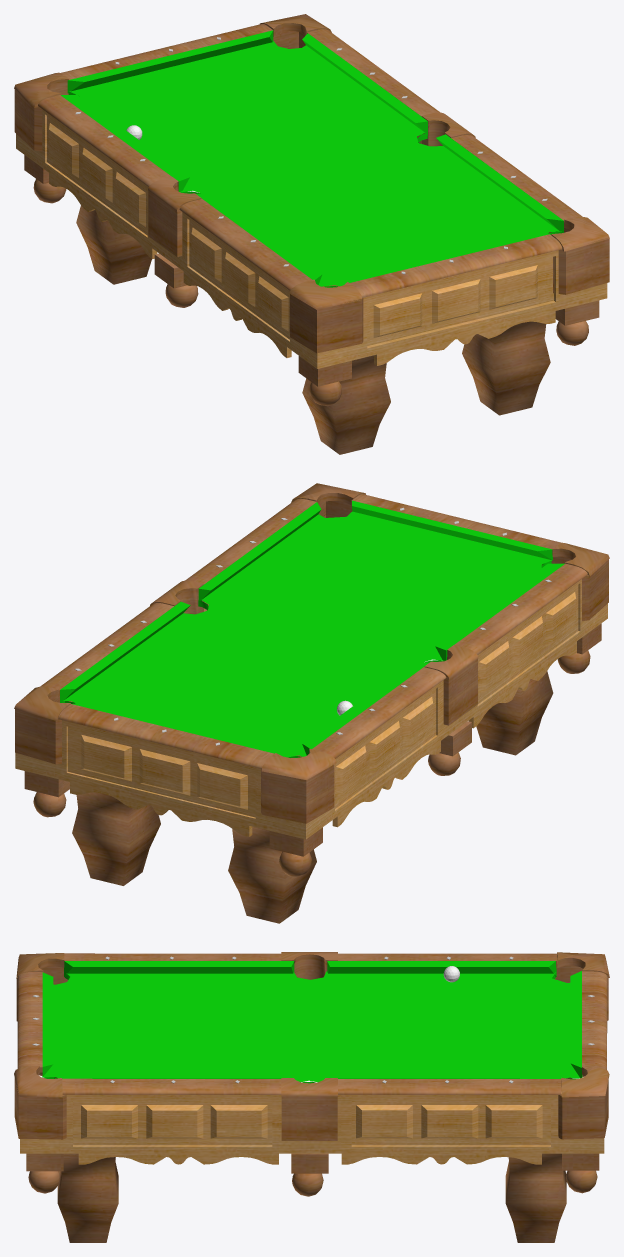
The model's file is MGA4062A.glb.
The picture shows the model from 3 angles, top to bottom: view 1: azimuth 30°, elevation 25°; view 2: azimuth 150°, elevation 25°; view 3: azimuth 270°, elevation 25°; orthographic projection. The views are drawn at different scales.
Parts seen in each view (by area): view 1: GreenFelt-ROOT, Cabinet-ROOT, Underparts-ROOT, Rails-ROOT, Pockettops-ROOT, Pocketdrop-ROOT; view 2: GreenFelt-ROOT, Cabinet-ROOT, Underparts-ROOT, Rails-ROOT, Pockettops-ROOT, Pocketdrop-ROOT; view 3: GreenFelt-ROOT, Cabinet-ROOT, Rails-ROOT, Underparts-ROOT, Pockettops-ROOT, Pocketdrop-ROOT.
Boxes of the visible parts, box(x1,y1,x2,y2) form: GreenFelt-ROOT: box(61, 30, 564, 287); Cabinet-ROOT: box(16, 109, 607, 368); Underparts-ROOT: box(24, 155, 599, 454); Rails-ROOT: box(38, 24, 581, 297); Pockettops-ROOT: box(14, 14, 609, 309); Pocketdrop-ROOT: box(14, 31, 609, 353); GreenFelt-ROOT: box(60, 500, 564, 757); Cabinet-ROOT: box(15, 579, 607, 839); Underparts-ROOT: box(24, 623, 601, 923); Rails-ROOT: box(40, 494, 587, 768); Pockettops-ROOT: box(14, 483, 609, 779); Pocketdrop-ROOT: box(15, 501, 608, 823); GreenFelt-ROOT: box(42, 961, 582, 1083); Cabinet-ROOT: box(20, 1092, 604, 1164); Rails-ROOT: box(17, 953, 607, 1094); Underparts-ROOT: box(26, 1072, 599, 1242); Pockettops-ROOT: box(14, 952, 609, 1140); Pocketdrop-ROOT: box(14, 960, 608, 1139).
Size of the model in its own units: 62.24 by 36.93 by 110.
Materials: 5 (2 with a texture image).
